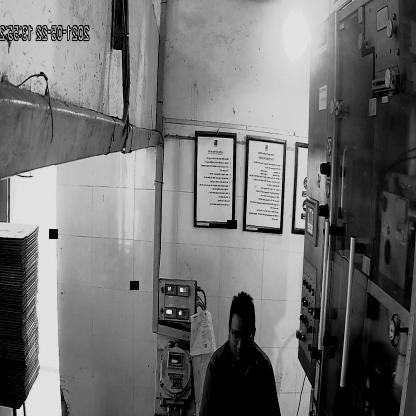goggles: (228, 326, 256, 348)
